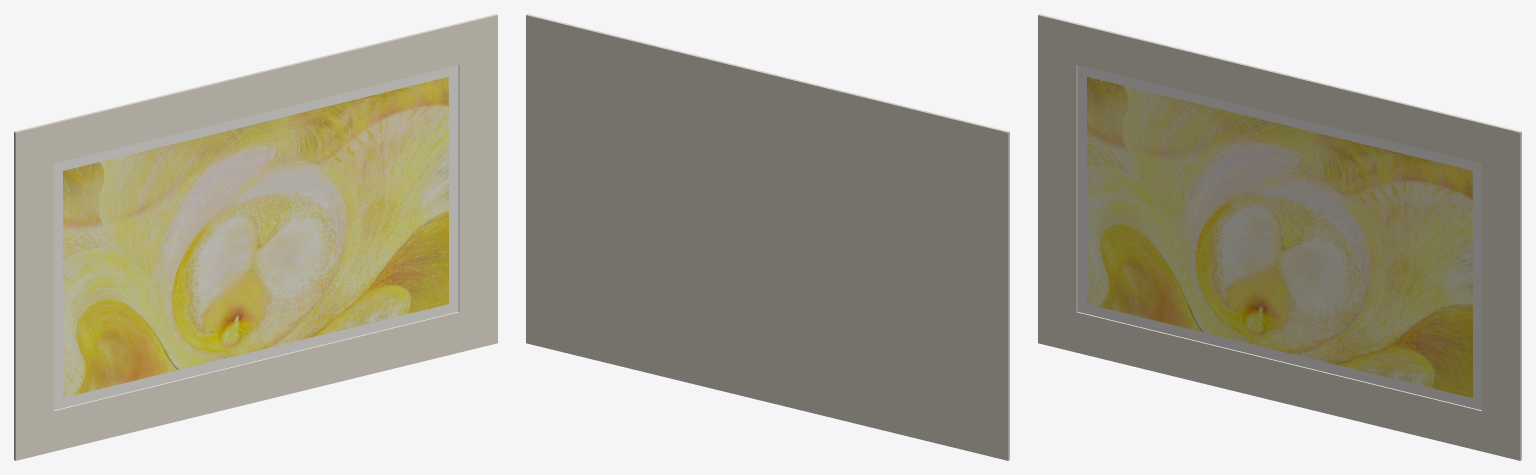
The model's file is hz010_moyen_passe-partout.glb.
The picture shows the model from 3 angles, left to right: view 1: azimuth 30°, elevation 25°; view 2: azimuth 150°, elevation 25°; view 3: azimuth 330°, elevation 25°; orthographic projection.
Visible parts, largest first — view 1: hz010_moyen_passe-partout; view 2: hz010_moyen_passe-partout; view 3: hz010_moyen_passe-partout.
Boxes of the visible parts, x1,y1,x2,y2 form: hz010_moyen_passe-partout: [14, 14, 497, 460]; hz010_moyen_passe-partout: [526, 14, 1009, 460]; hz010_moyen_passe-partout: [1038, 14, 1521, 460].
Bounding box in the file's own units: 1 × 0.65 × 0.0055.
4 materials, 1 textured.
